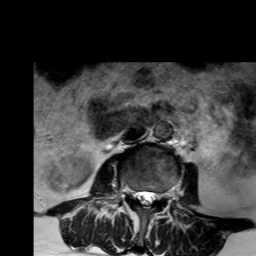CCS_normal: (142, 180, 150, 215)
LFS_normal: (157, 183, 165, 207)
LLS_normal: (150, 180, 157, 210)
RFS_normal: (126, 179, 134, 206)
RLS_normal: (134, 182, 142, 209)
